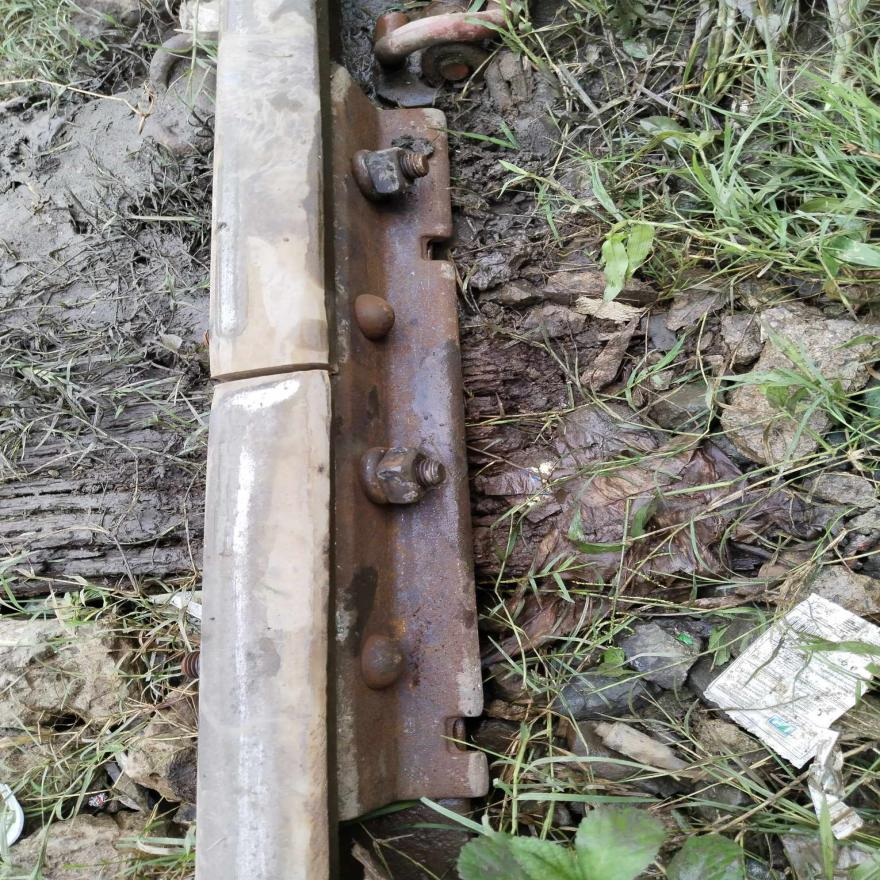railway-gap: (88, 273, 426, 478)
